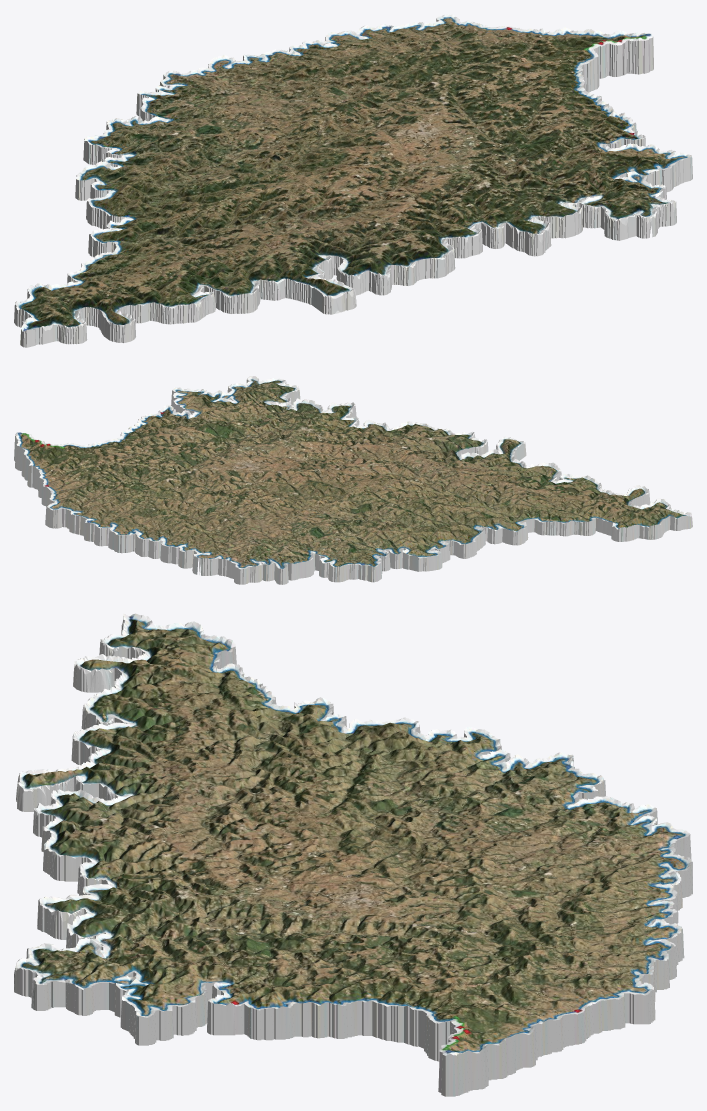
The picture shows the model from 3 angles, top to bottom: view 1: azimuth 30°, elevation 25°; view 2: azimuth 150°, elevation 25°; view 3: azimuth 270°, elevation 25°; orthographic projection. The views are drawn at different scales.
Bounding box in the file's own units: 0.9967 × 0.0429 × 0.6173.
Materials: 1 (1 with a texture image).
